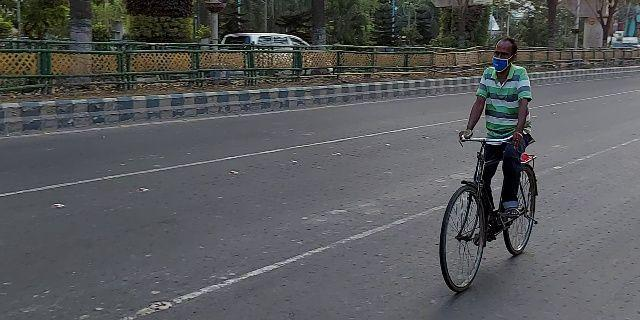Cycle: (435, 32, 542, 301)
